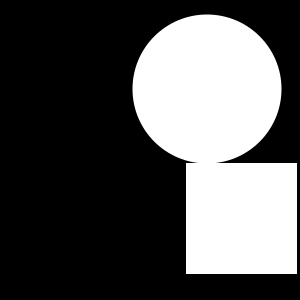circle: (186, 163, 297, 274), (256, 200, 267, 211)
rectangle: (132, 15, 282, 164), (189, 79, 263, 153)
